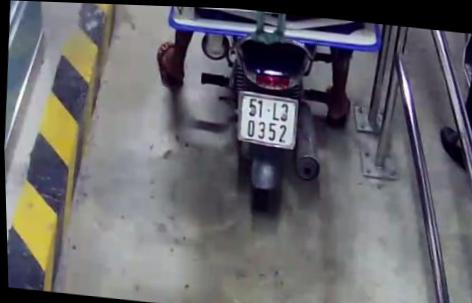LP: (232, 87, 299, 150)
